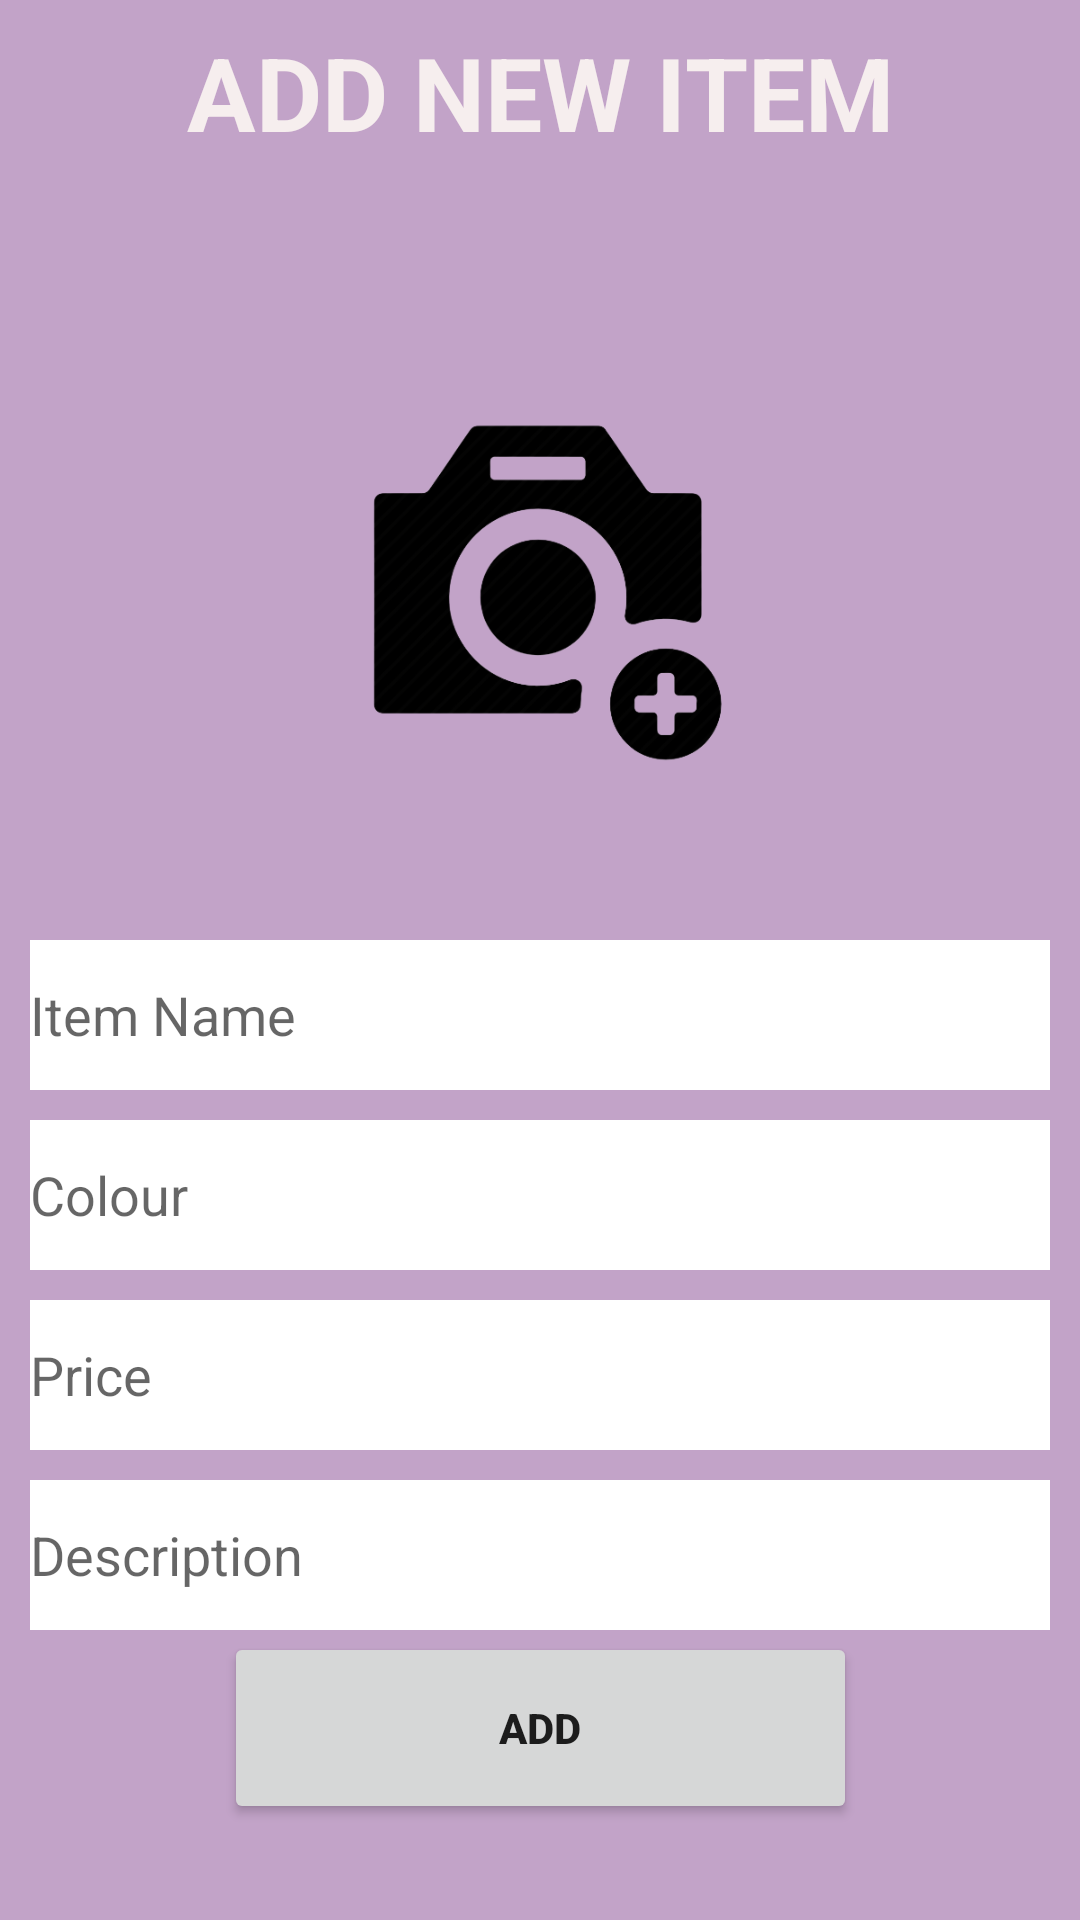

Icons on this 1080*1920 Android screen, each with its box as [left=x1, top=y1, right=x2, bottom=y2]:
add camera: [left=374, top=425, right=722, bottom=760]
